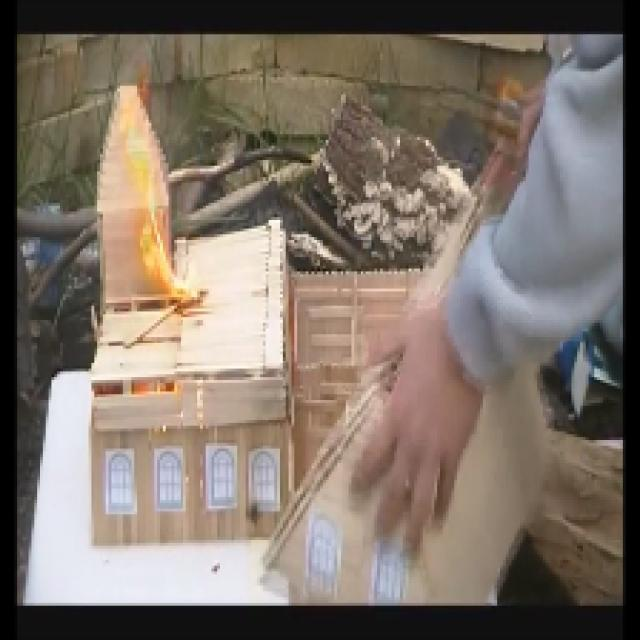fire: (128, 161, 186, 309)
